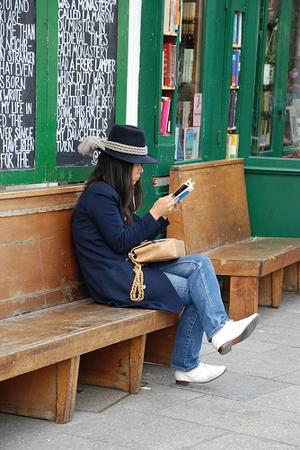person: (72, 128, 261, 391)
